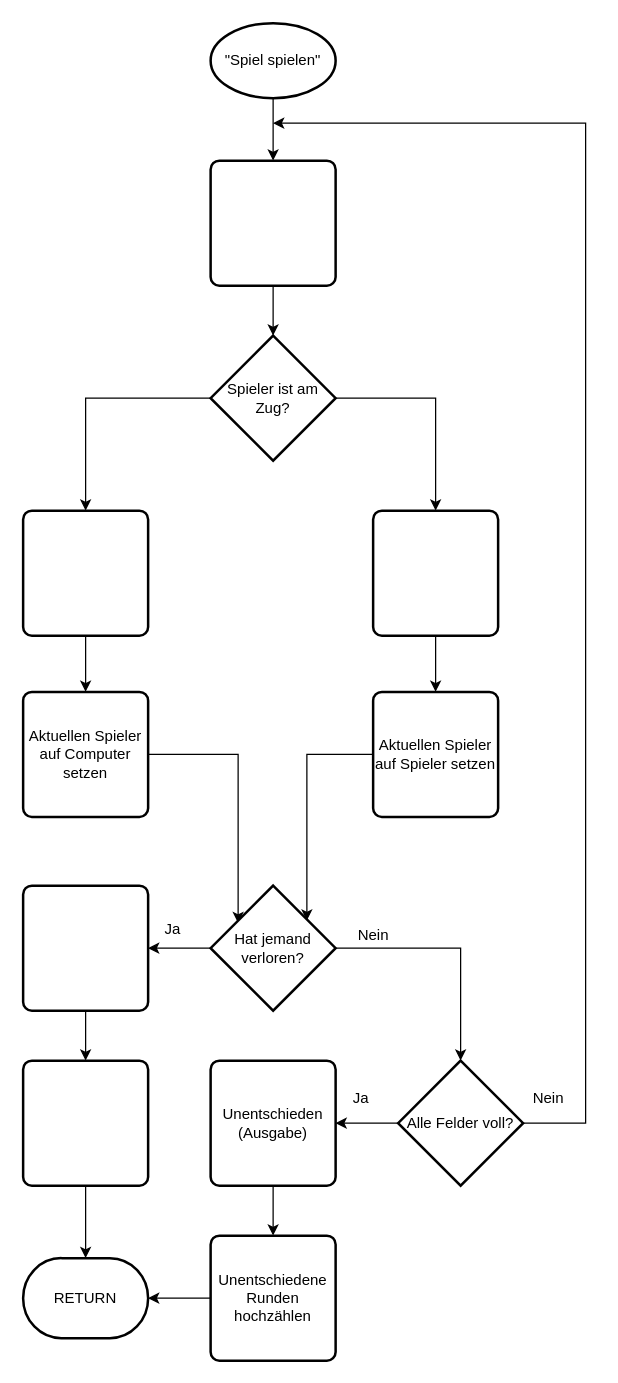
Some shapes in this 618 by 1383 pixel diagram are drawn without their labels. Each missing label, with the box of its shape:
Aktueller Spieler hat verloren (Ausgabe): (21, 884, 149, 1011)
Entscheide wer anfängt: (209, 159, 336, 286)
Nach Zug fragen und Zug durchführen: (21, 509, 149, 636)
Verlorene Runden für aktuellen Spieler hochzählen: (21, 1059, 149, 1186)
Zug generieren und durchführen: (371, 509, 499, 636)
